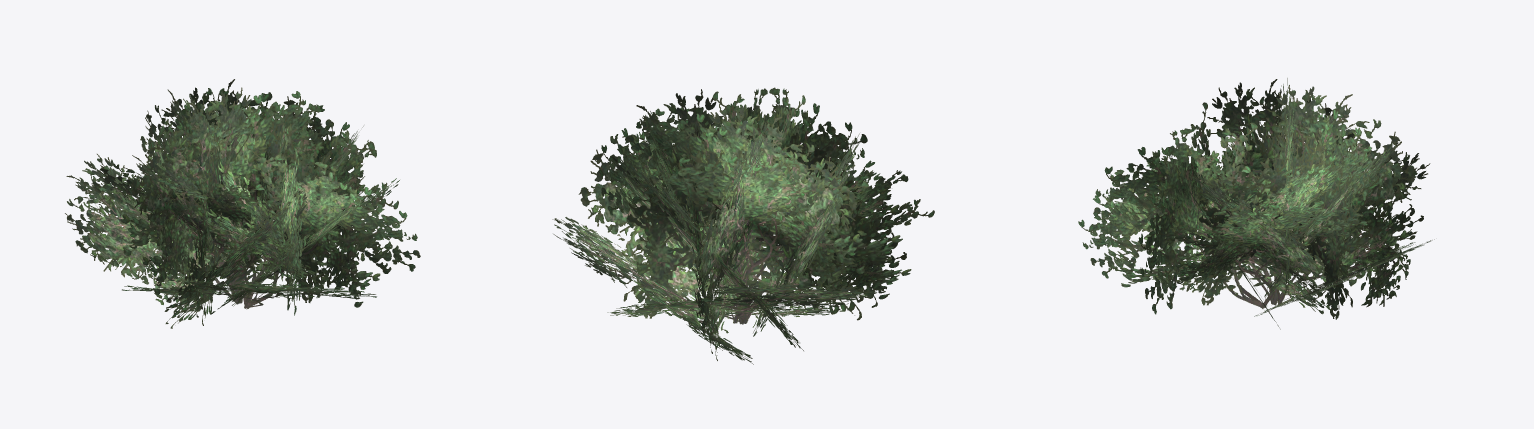
The model's file is shrb_leafy_full_green_l0.fbx.
3 renders of one model, left to right at view 1: azimuth 30°, elevation 25°; view 2: azimuth 150°, elevation 25°; view 3: azimuth 270°, elevation 25°, orthographic. The views are drawn at different scales.
Parts seen in each view (by area): view 1: mesh_node; view 2: mesh_node; view 3: mesh_node.
Boxes of the visible parts, x1,y1,x2,y2 form: mesh_node: (65, 79, 420, 328); mesh_node: (552, 87, 934, 364); mesh_node: (1078, 78, 1434, 329).
Bounding box in the file's own units: 1.83 × 1.57 × 2.05.
